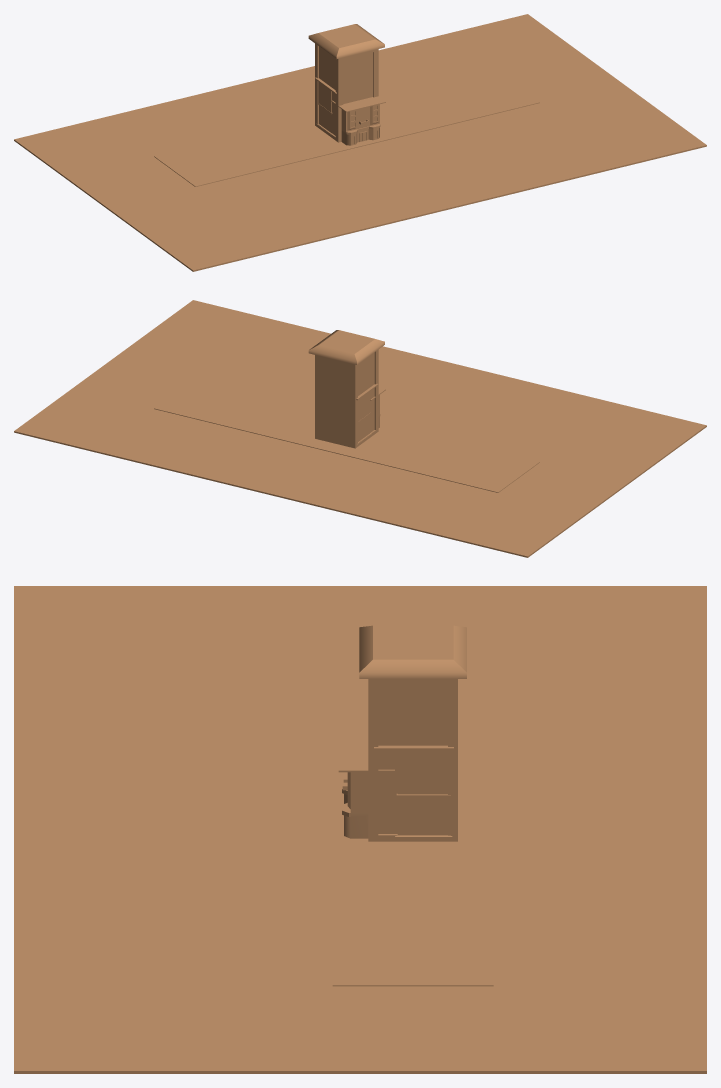
File: Models03.fbx
3 renders of one model, top to bottom at view 1: azimuth 30°, elevation 25°; view 2: azimuth 150°, elevation 25°; view 3: azimuth 270°, elevation 25°, orthographic. The views are drawn at different scales.
Visible parts, largest first — view 1: ground, small_ground, top_building, building4; view 2: ground, small_ground, top_building; view 3: ground, small_ground, top_building, building4, second_floor_1, first_floor1.
Part boxes in pixels (x1,y1,x2,y2): ground: (14, 14, 706, 271); small_ground: (154, 72, 539, 186); top_building: (308, 24, 384, 142); building4: (331, 96, 385, 145); ground: (14, 300, 706, 557); small_ground: (154, 378, 539, 492); top_building: (308, 330, 384, 448); ground: (14, 586, 706, 1073); small_ground: (332, 660, 493, 986); top_building: (359, 625, 466, 841); building4: (338, 733, 394, 838); second_floor_1: (374, 745, 453, 794); first_floor1: (395, 793, 452, 841).
Size of the model in its own units: 3483 by 632 by 2104.
